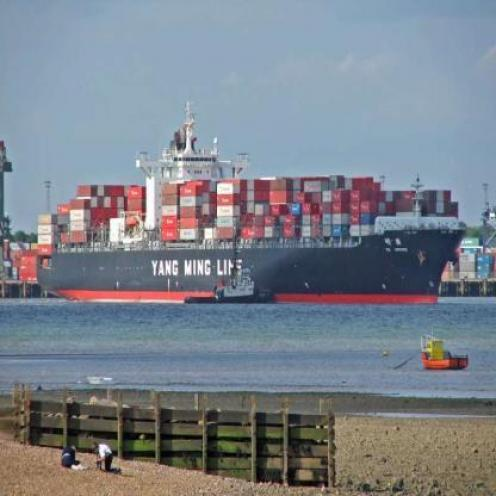Ship: (36, 181, 471, 302)
